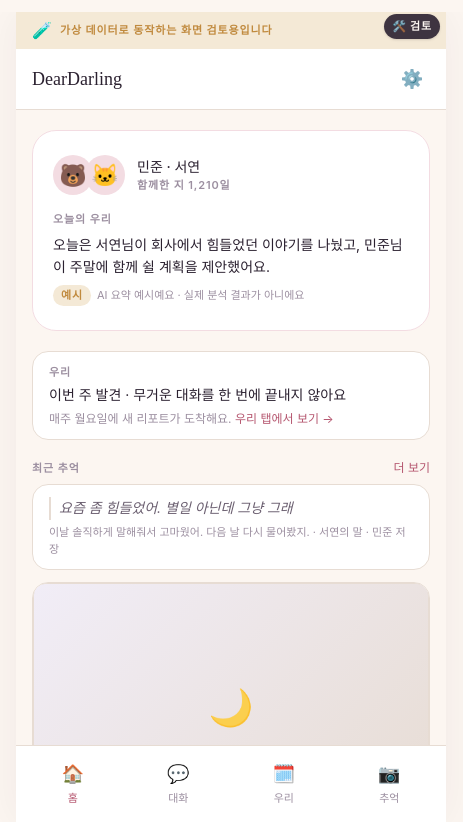
설정 화면 › AI 분석 동의를 끄면 커플 분석이 "중단"으로 표시되고 대화 화면 코칭이 막힌다
Click the button named "설정": (412, 79) [394, 61, 430, 97]
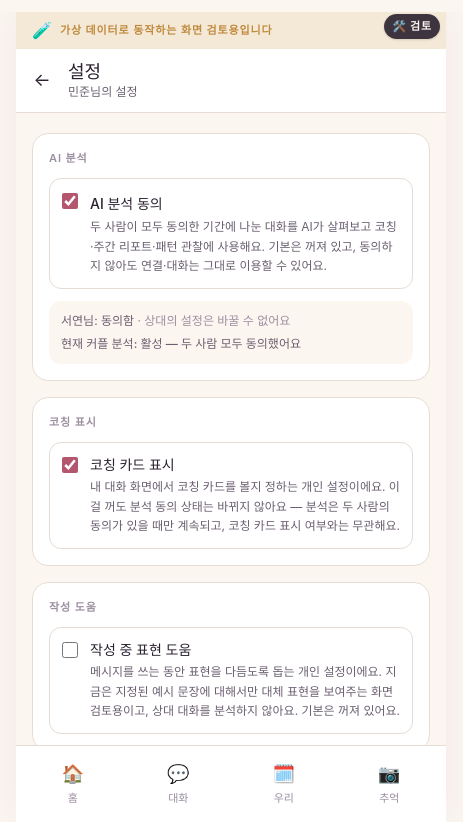
Result: the text "현재 커플 분석: 활성 — 두 사람 모두 동의했어요" is shown at [61, 336, 301, 351]
Click the checkbox labelled "AI 분석 동의": (70, 201) [62, 193, 78, 209]
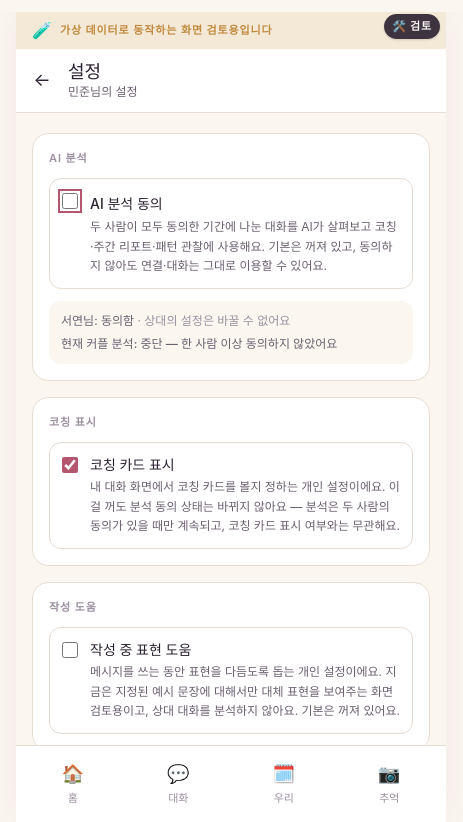
Result: the text "현재 커플 분석: 중단 — 한 사람 이상 동의하지 않았어요" is shown at [61, 336, 337, 351]
Click the button "💬 대화": (178, 783) [126, 754, 231, 812]
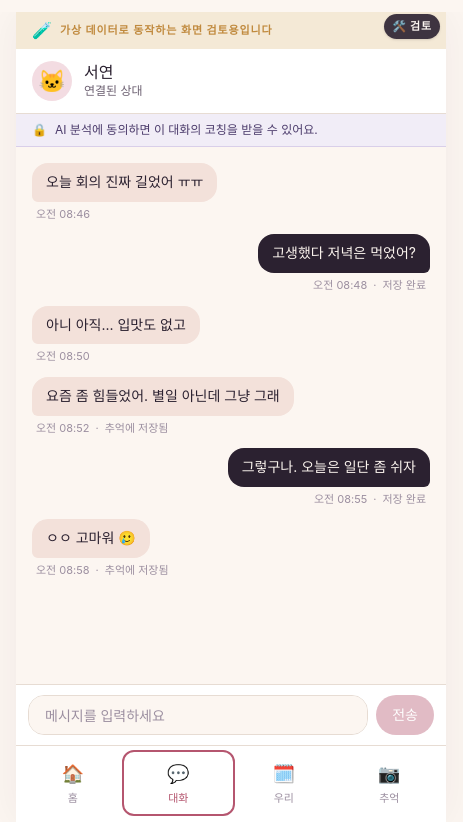
Result: the text "AI 분석에 동의하면 이 대화의 코칭을 받을 수 있어요." is shown at [55, 122, 318, 138]
